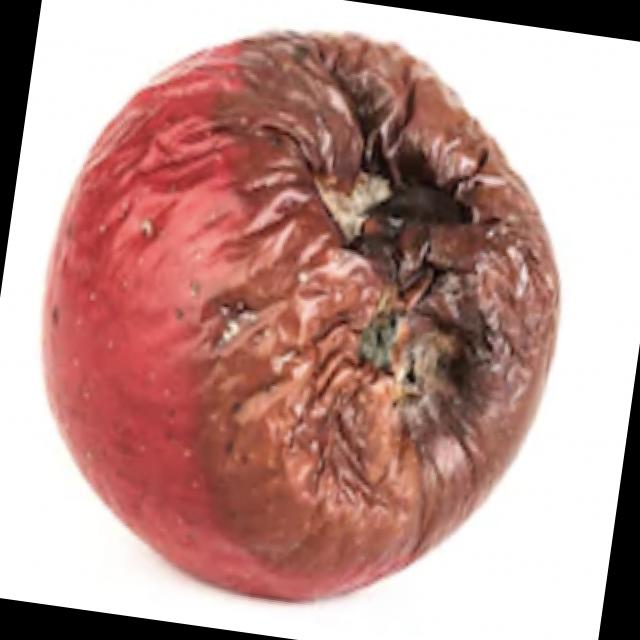rotten_apple: (12, 0, 596, 638)
